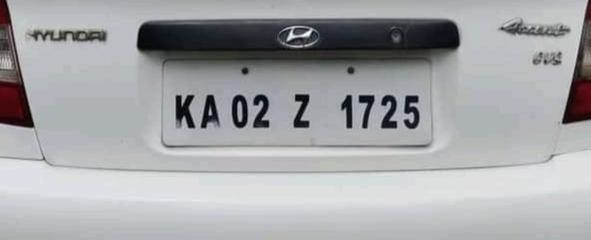0: (228, 91, 251, 132)
1: (335, 92, 357, 132)
2: (378, 94, 402, 133), (252, 91, 271, 134)
5: (401, 90, 424, 132)
7: (356, 92, 379, 133)
A: (201, 91, 222, 134)
K: (172, 94, 197, 133)
Z: (290, 84, 315, 133)
